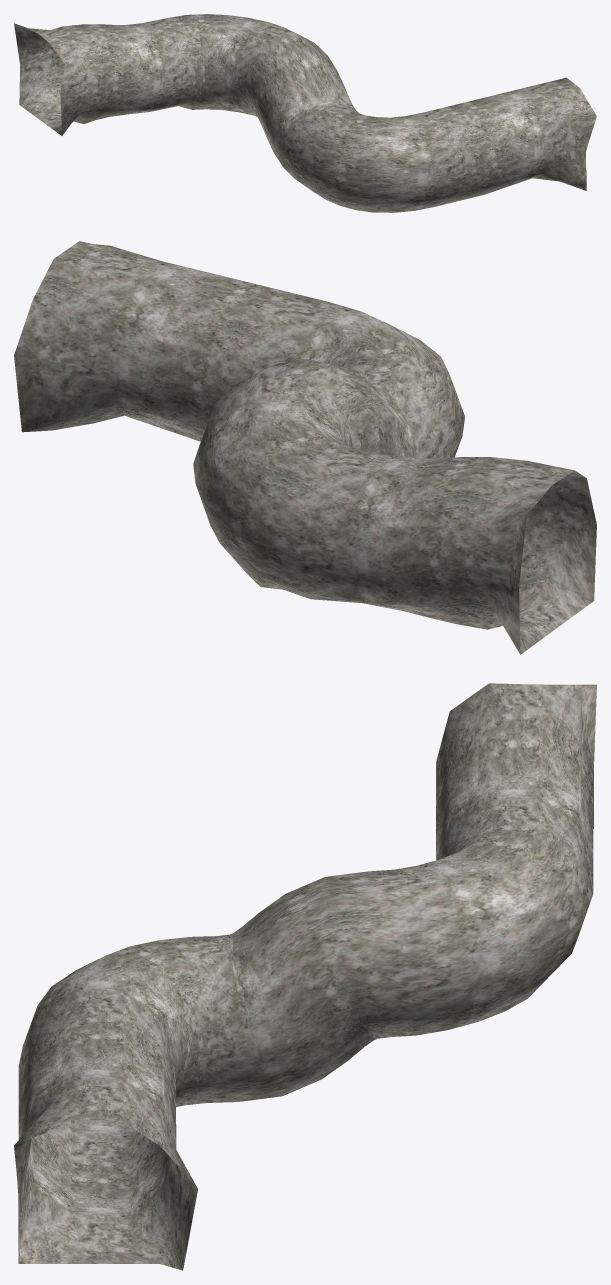
Rendered from DWARF_PALACE_WATERROOM_GEARROOM_CAVE.fbx.
3 renders of one model, top to bottom at view 1: azimuth 30°, elevation 25°; view 2: azimuth 150°, elevation 25°; view 3: azimuth 270°, elevation 25°, orthographic. The views are drawn at different scales.
Parts seen in each view (by area): view 1: DWARF_PALACE_WATERROOM_GEARROOM_CAVE; view 2: DWARF_PALACE_WATERROOM_GEARROOM_CAVE; view 3: DWARF_PALACE_WATERROOM_GEARROOM_CAVE.
Part boxes in pixels (box(x1,y1,x2,y2)): DWARF_PALACE_WATERROOM_GEARROOM_CAVE: box(14, 14, 596, 212); DWARF_PALACE_WATERROOM_GEARROOM_CAVE: box(14, 241, 596, 654); DWARF_PALACE_WATERROOM_GEARROOM_CAVE: box(14, 683, 596, 1270).
Size of the model in its own units: 518125 by 173201 by 369724.
Materials: 1 (1 with a texture image).
